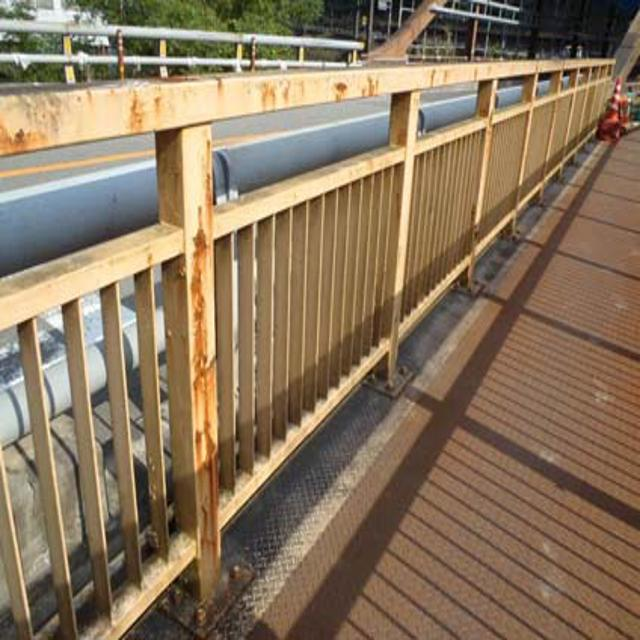corrosion: (115, 70, 252, 627)
